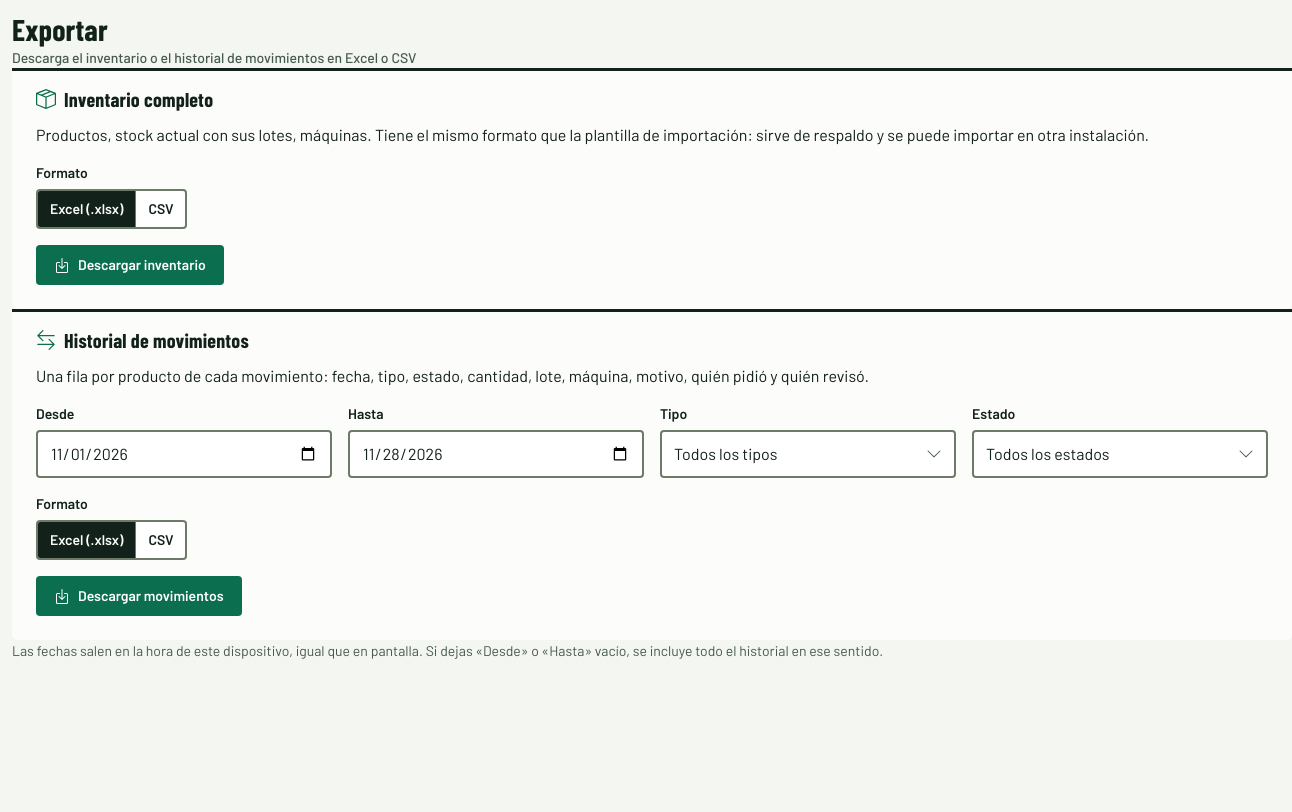
Exportar › descarga el inventario completo en Excel
Click the button "Descargar inventario". click: {"x": 130, "y": 265}
box: [36,245,224,285]
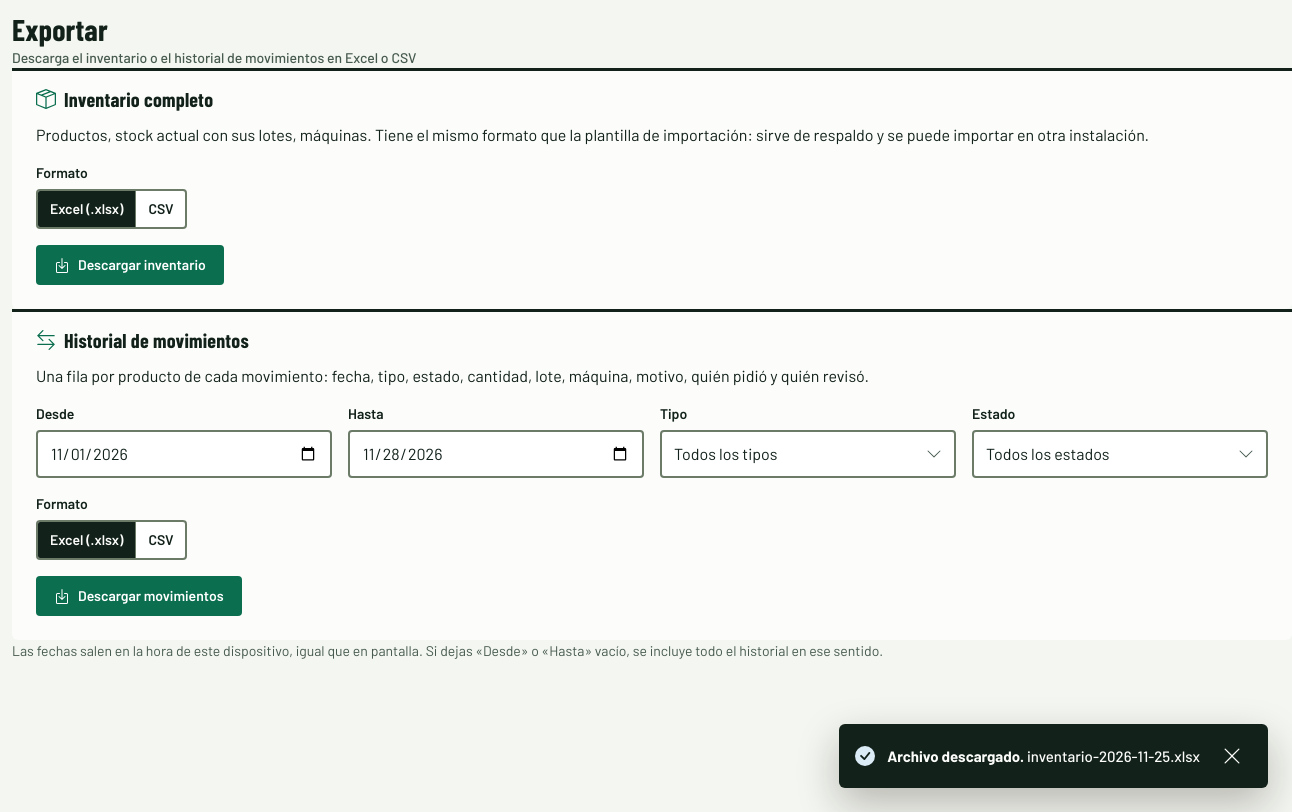
Result: the text "Archivo descargado. inventario-2026-11-25.xlsx" is shown at [887,745,1200,767]
